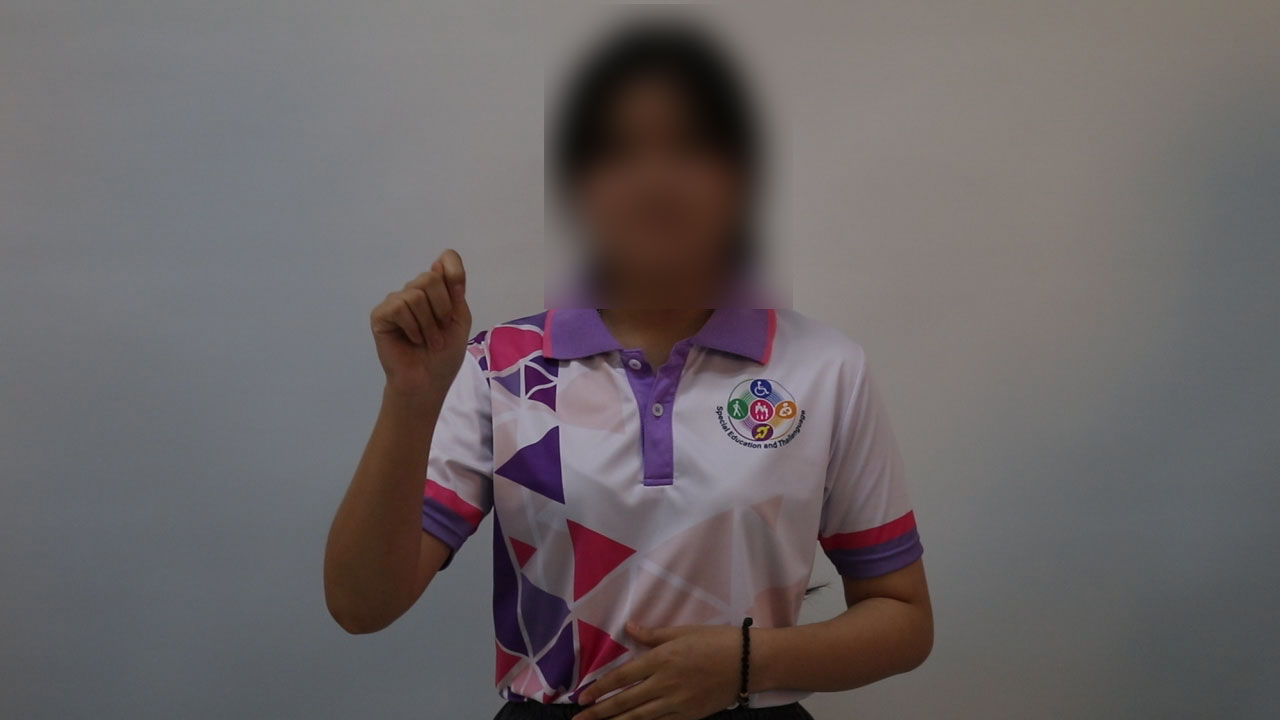tor: (351, 235, 503, 437)
